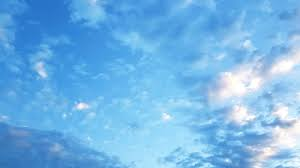sky: (2, 2, 300, 167)
